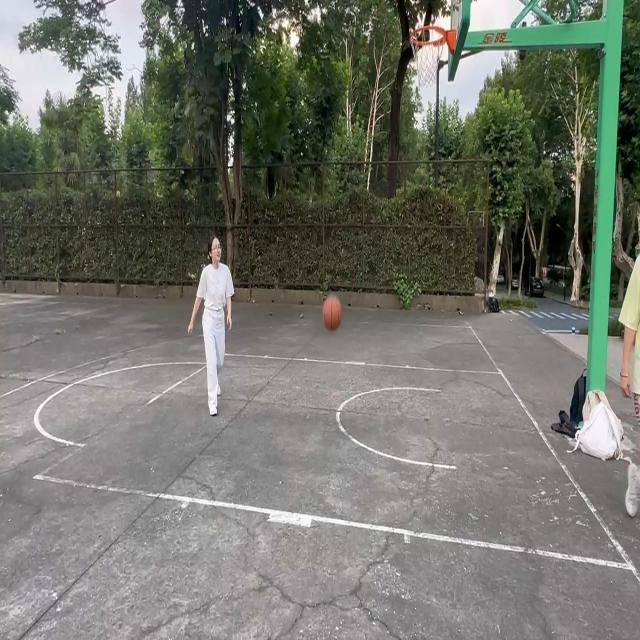basketball: (410, 27, 453, 97)
rim: (322, 297, 342, 332)
